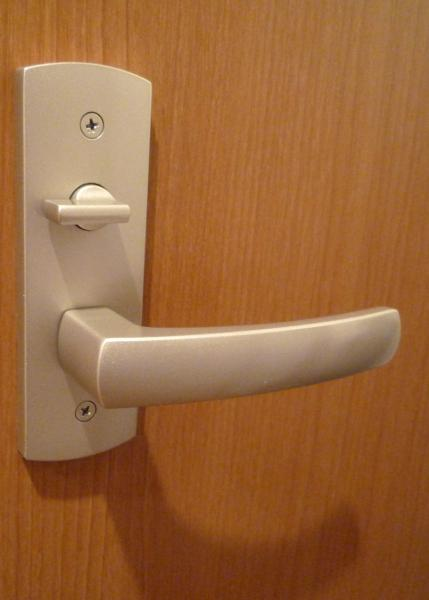doorhandle: (40, 263, 424, 449)
